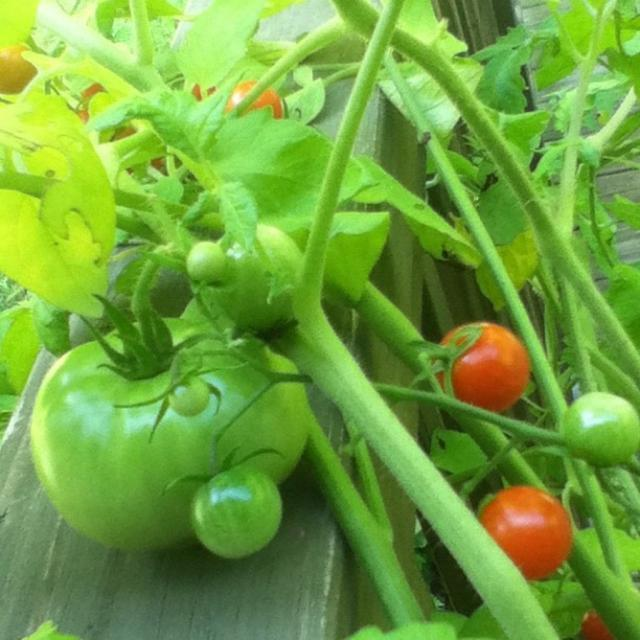Tomato: (22, 306, 324, 544), (440, 315, 538, 415), (186, 460, 284, 556), (208, 219, 303, 317), (480, 488, 573, 579), (558, 391, 638, 460), (224, 75, 282, 119), (0, 48, 39, 92), (585, 610, 617, 640)
